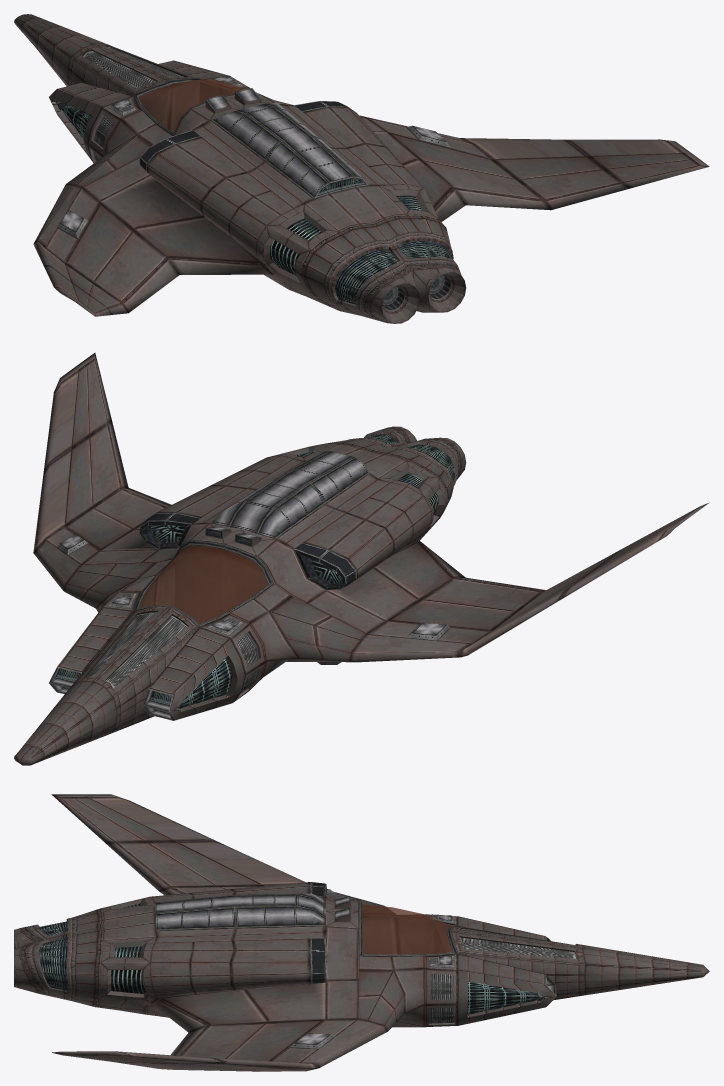
File: LF HALF.obj
3 renders of one model, top to bottom at view 1: azimuth 30°, elevation 25°; view 2: azimuth 150°, elevation 25°; view 3: azimuth 270°, elevation 25°, orthographic. The views are drawn at different scales.
Visible parts, largest first — view 1: Cube.002; view 2: Cube.002; view 3: Cube.002.
Boxes of the visible parts, x1=… form: Cube.002: x1=14, y1=14, x2=709, y2=323; Cube.002: x1=14, y1=352, x2=709, y2=765; Cube.002: x1=14, y1=794, x2=709, y2=1071.
Bounding box in the file's own units: 13.28 × 2.64 × 15.1.
7 materials, 5 textured.
